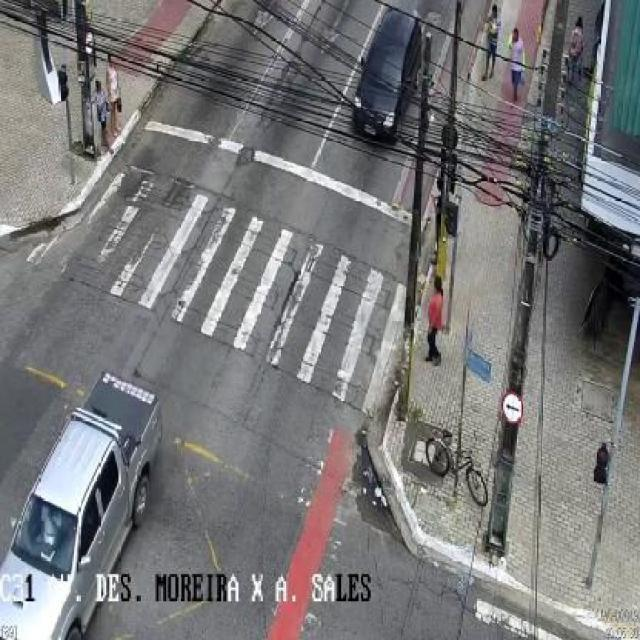Car: (348, 8, 422, 143)
Cycle: (425, 428, 489, 508)
Truck: (0, 370, 165, 640)
